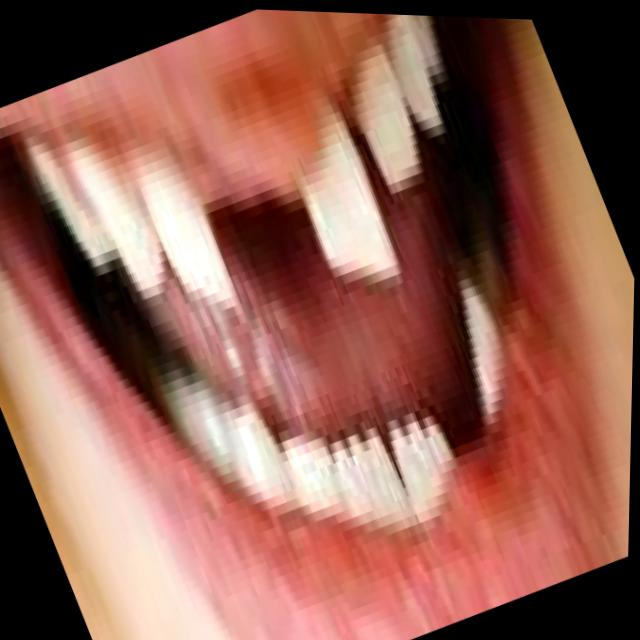hypodontia: (82, 9, 392, 313)
